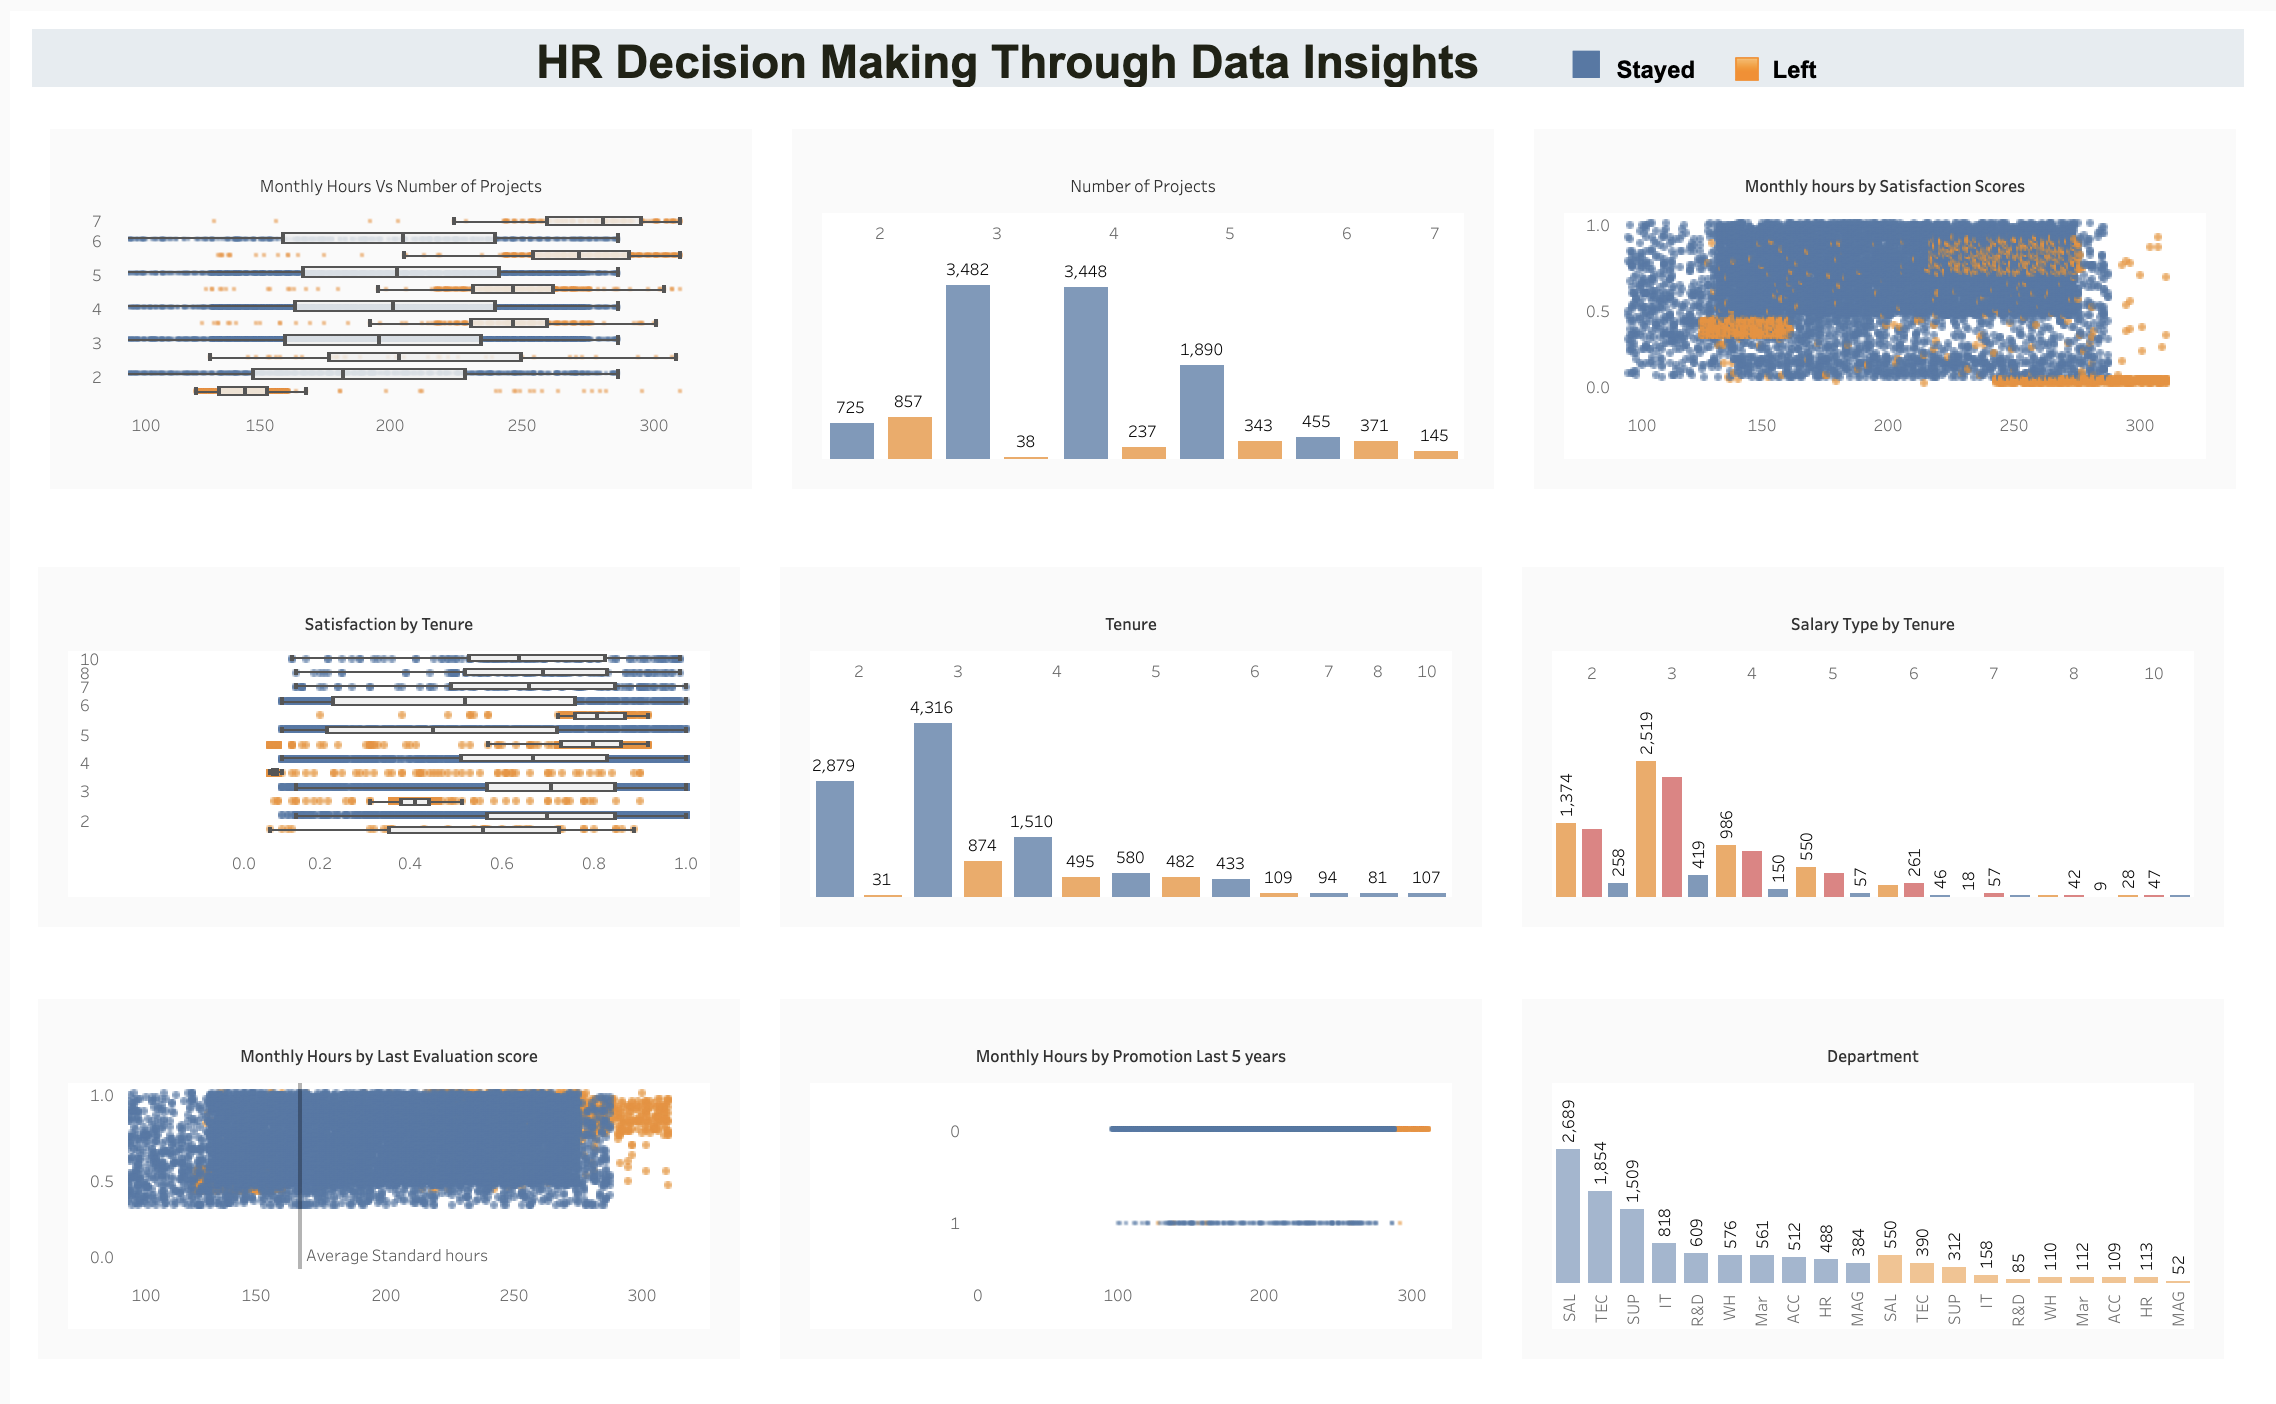

This screenshot's page, from the dashboard's own definition file:
{"tool":"tableau","page":{"name":"Dashboard 1","canvas":[1150,700],"ordinal":0},"visuals":[{"type":"text","box":[7,5,1114,37]},{"type":"worksheet","title":"Sheet 1","mark":"Circle","rows":["number_project","left"],"cols":["average_monthly_hours"],"box":[10,49,371,200]},{"type":"worksheet","title":"Sheet 2","mark":"Automatic","rows":["number_project"],"cols":["number_project","left"],"box":[381,49,371,200]},{"type":"worksheet","title":"Sheet 3","mark":"Automatic","rows":["satisfaction_level"],"cols":["average_monthly_hours"],"box":[752,49,371,200]},{"type":"worksheet","title":"Sheet 4","mark":"Automatic","rows":["tenure","left"],"cols":["satisfaction_level"],"box":[4,268,371,200]},{"type":"worksheet","title":"Sheet 5","mark":"Automatic","rows":["tenure"],"cols":["tenure","left"],"box":[375,268,371,200]},{"type":"worksheet","title":"Sheet 6","mark":"Automatic","rows":["tenure"],"cols":["tenure","salary"],"box":[746,268,371,200]},{"type":"worksheet","title":"Sheet 7","mark":"Automatic","rows":["last_evaluation"],"cols":["average_monthly_hours"],"box":[4,484,371,200]},{"type":"worksheet","title":"Sheet 8","mark":"Circle","rows":["promotion_last_5years"],"cols":["average_monthly_hours"],"box":[375,484,371,200]},{"type":"worksheet","title":"Sheet 9","mark":"Automatic","rows":["department"],"cols":["left","department"],"box":[746,484,371,200]}]}

Visuals, with their boxes in screenshot pixels (x1, y1, x2, y2), scaled from the page's 1150x700 canvas onto the 2276x1404 screenshot:
text: detection(14, 10, 2219, 84)
"Sheet 1" worksheet (Circle marks): detection(20, 98, 754, 499)
"Sheet 2" worksheet: detection(754, 98, 1488, 499)
"Sheet 3" worksheet: detection(1488, 98, 2223, 499)
"Sheet 4" worksheet: detection(8, 538, 742, 939)
"Sheet 5" worksheet: detection(742, 538, 1476, 939)
"Sheet 6" worksheet: detection(1476, 538, 2211, 939)
"Sheet 7" worksheet: detection(8, 971, 742, 1372)
"Sheet 8" worksheet (Circle marks): detection(742, 971, 1476, 1372)
"Sheet 9" worksheet: detection(1476, 971, 2211, 1372)
